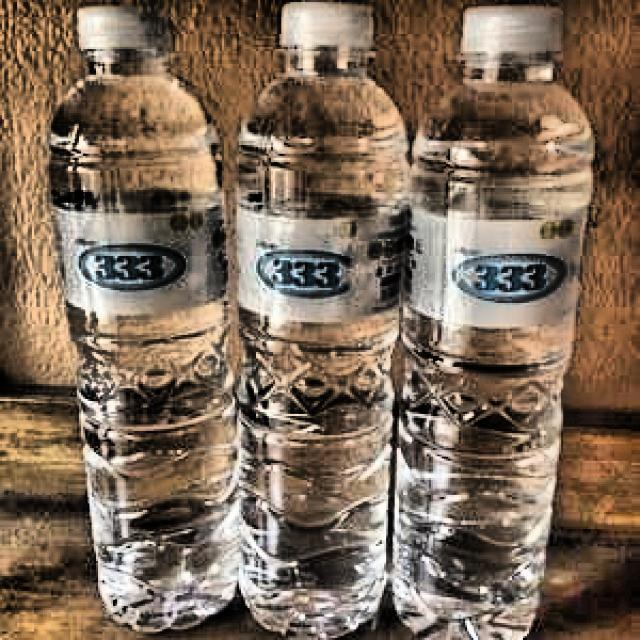Bottles: (30, 0, 247, 636), (218, 0, 405, 636), (390, 0, 570, 640)
